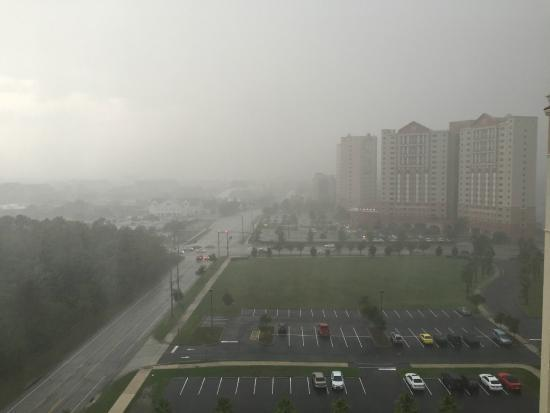car: (496, 371, 524, 393), (441, 371, 469, 393), (478, 373, 504, 393), (404, 372, 426, 392), (492, 329, 513, 347), (311, 371, 328, 391), (330, 369, 344, 392), (463, 332, 481, 348), (448, 332, 462, 348), (433, 331, 447, 347), (419, 332, 434, 346), (317, 322, 330, 338), (390, 329, 403, 345), (455, 304, 472, 316)
